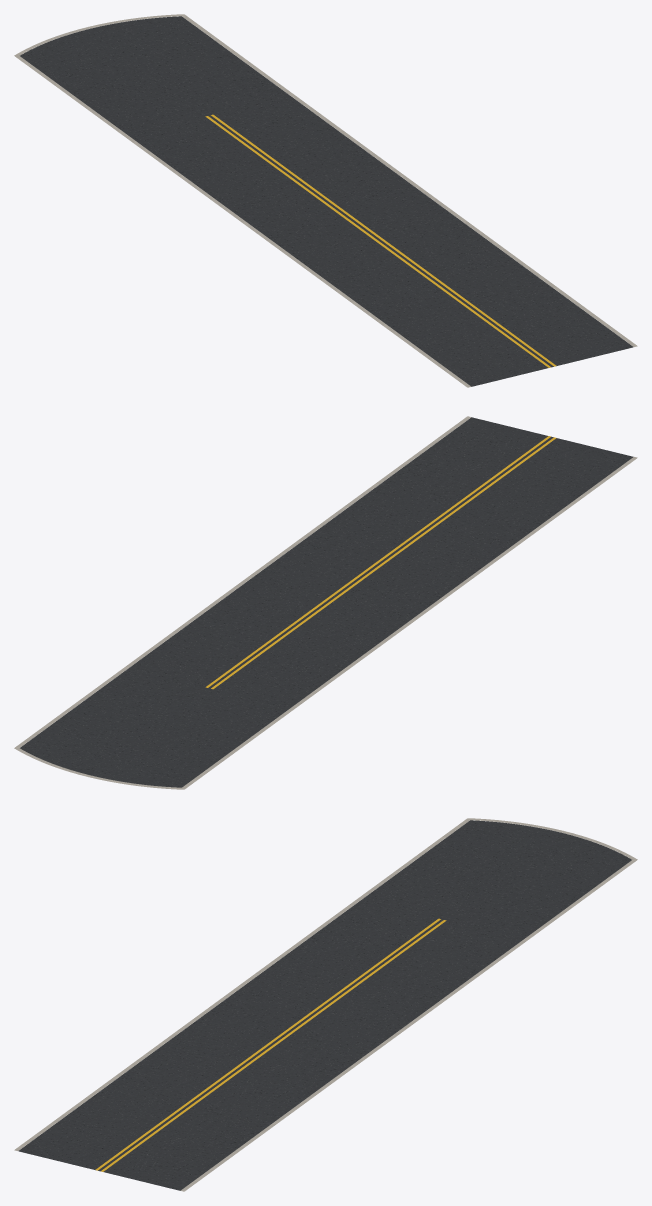
Rendered from road_a_CulDeSacSouth.gltf.
3 renders of one model, top to bottom at view 1: azimuth 30°, elevation 25°; view 2: azimuth 150°, elevation 25°; view 3: azimuth 330°, elevation 25°, orthographic.
Parts seen in each view (by area): view 1: road_a_CulDeSacSouth; view 2: road_a_CulDeSacSouth; view 3: road_a_CulDeSacSouth.
Boxes of the visible parts, box(x1,y1,x2,y2) form: road_a_CulDeSacSouth: box(14, 14, 637, 387); road_a_CulDeSacSouth: box(14, 416, 637, 789); road_a_CulDeSacSouth: box(14, 818, 637, 1191).
Size of the model in its own units: 6.3 by 0.0045 by 29.76.
2 materials, 2 textured.
